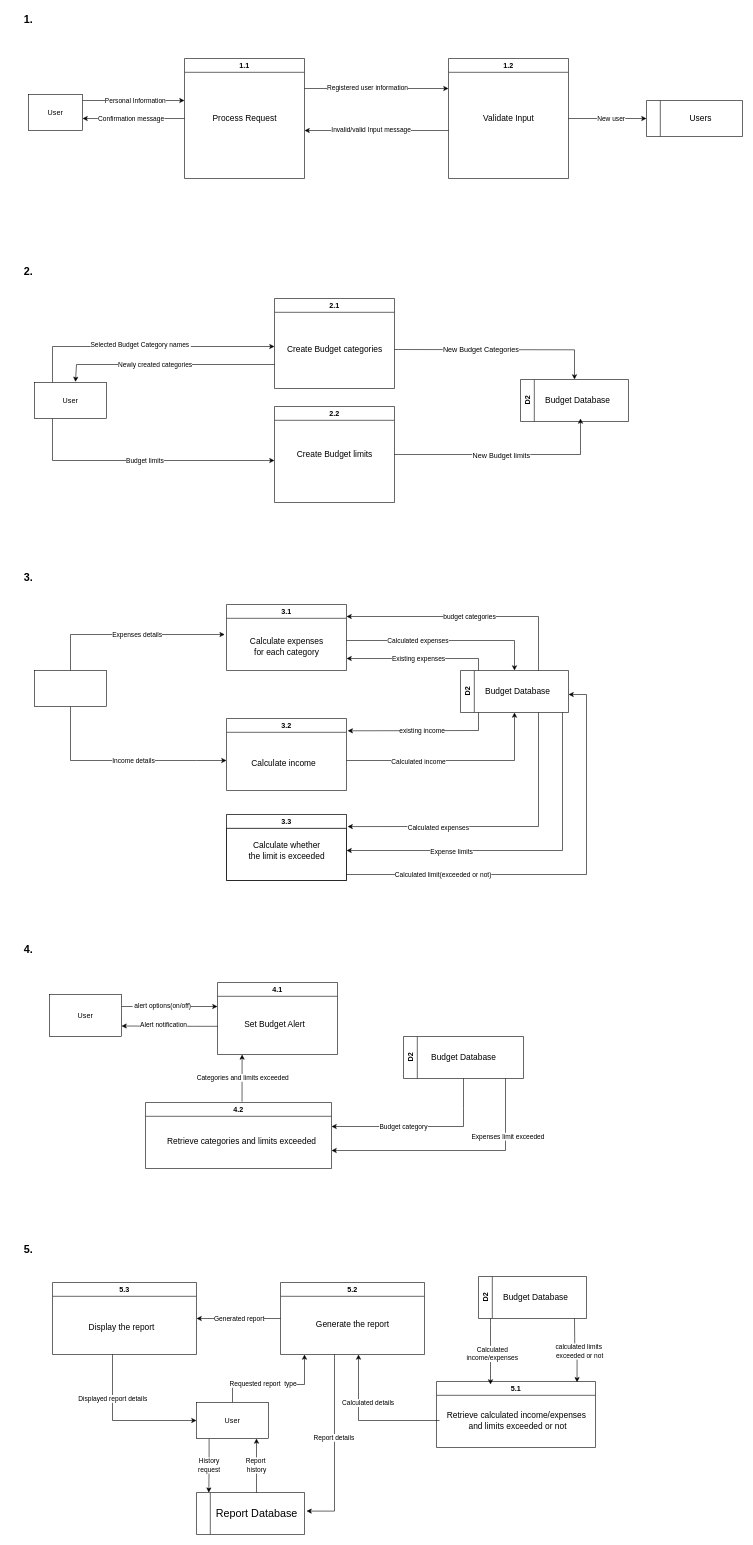
Image size: 753x1545. Some labels were removed from this diagram. The box of each missing label's shape, as (x1, y1, x2, y2) in pixels:
D1: (646, 100, 742, 136)
D3: (196, 1492, 304, 1534)
NFC Reader: (34, 670, 106, 706)
